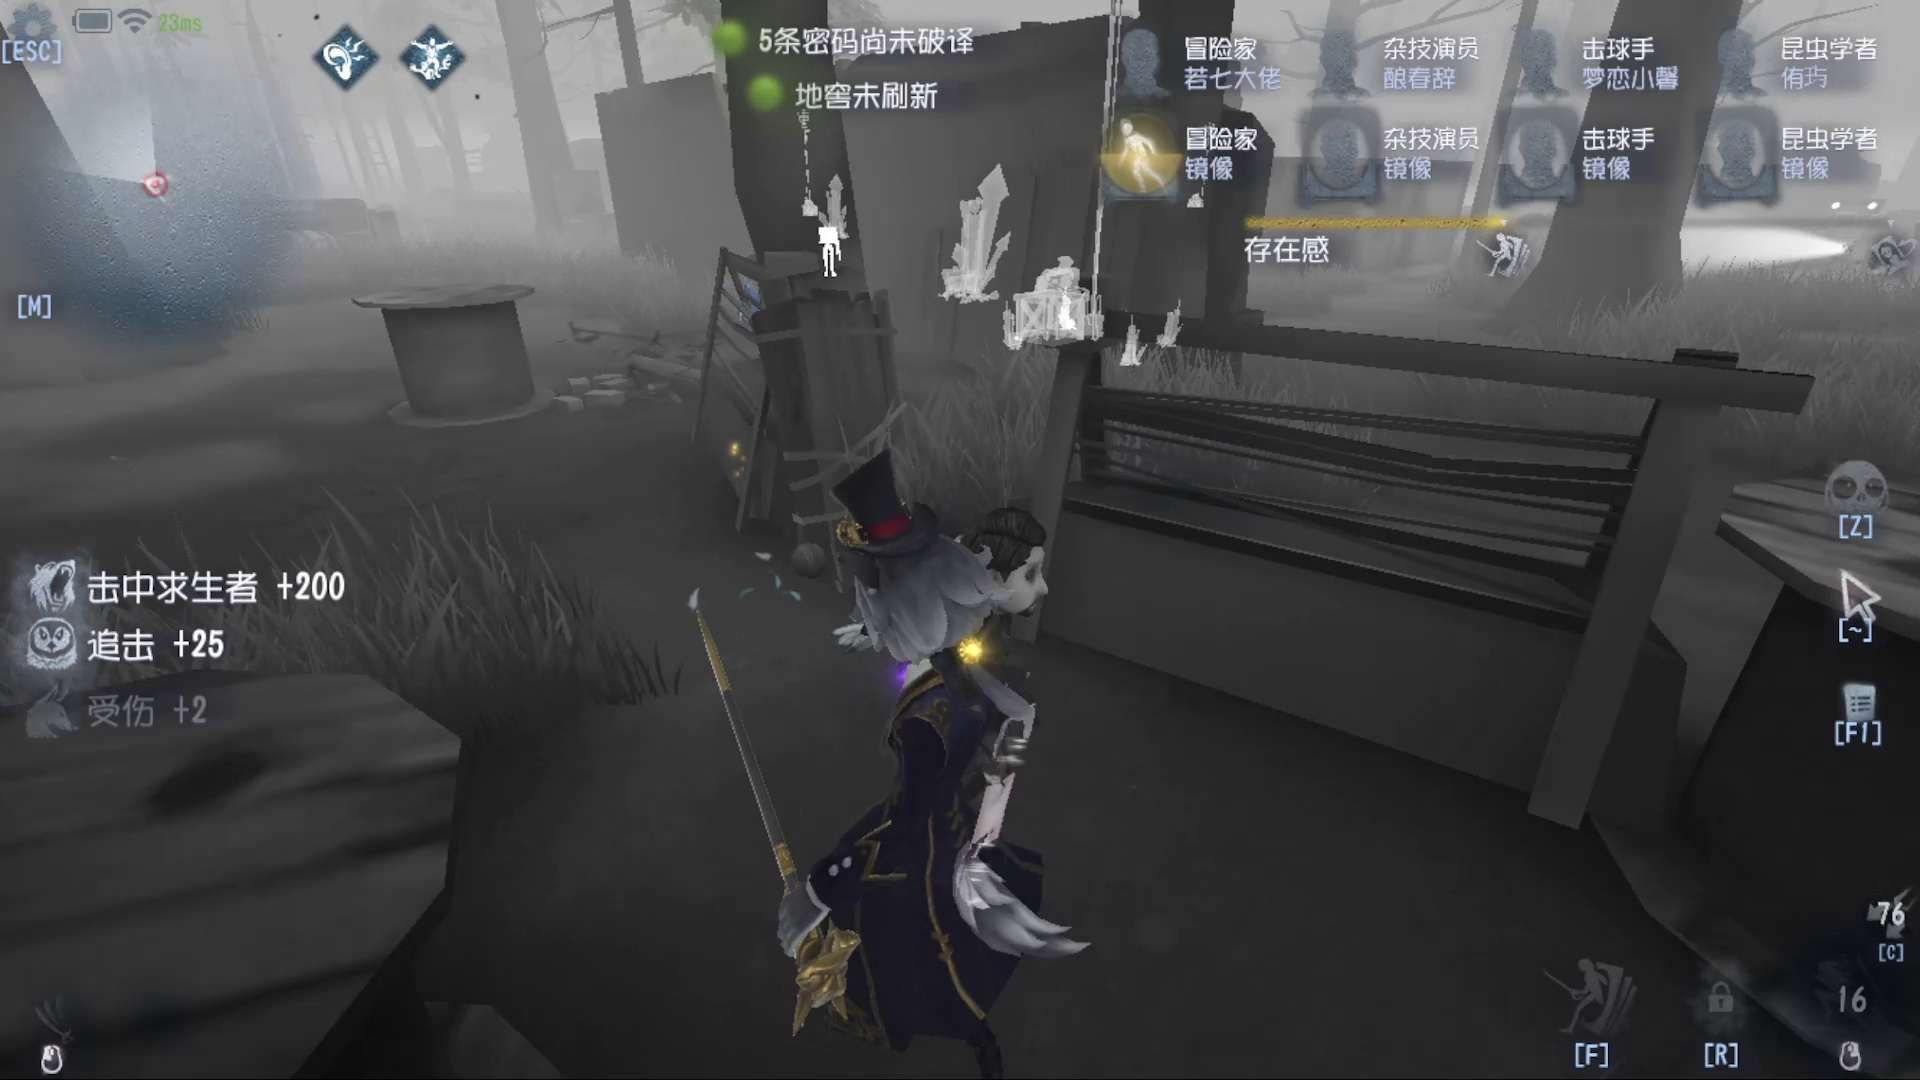密码机: (992, 243, 1141, 352)
木板: (749, 268, 922, 595)
狂欢之椅: (932, 164, 1009, 320)
